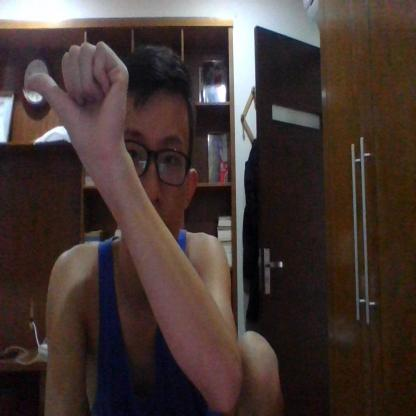right: (25, 40, 127, 162)
